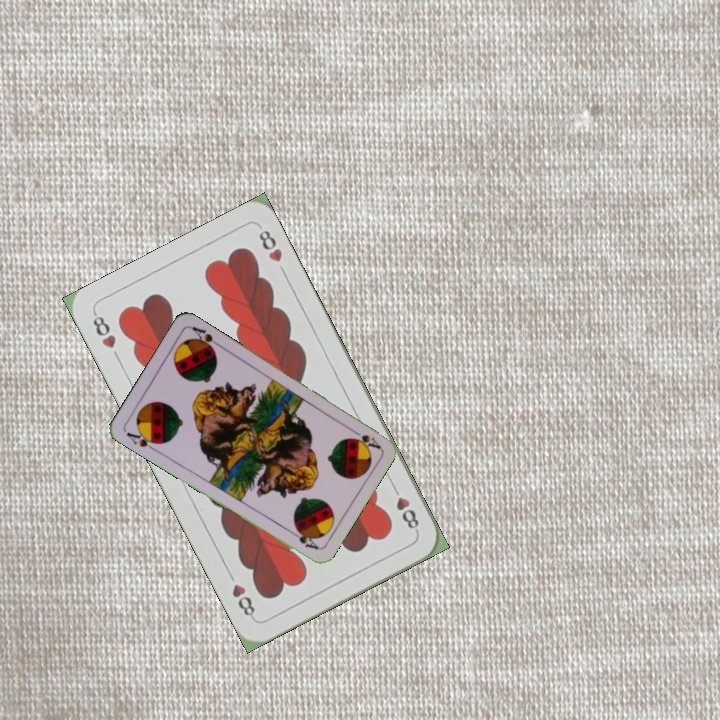H8: (387, 480, 422, 535), (88, 309, 119, 351)
SA: (122, 426, 162, 454), (346, 424, 383, 451)
